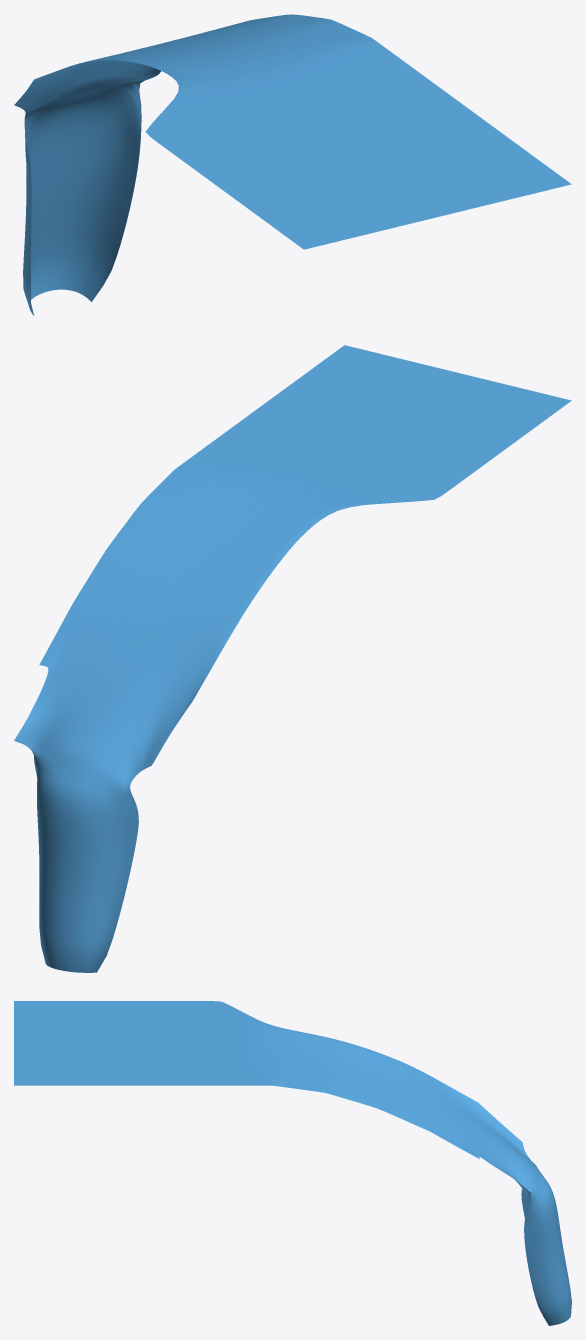
The picture shows the model from 3 angles, top to bottom: view 1: azimuth 30°, elevation 25°; view 2: azimuth 150°, elevation 25°; view 3: azimuth 270°, elevation 25°; orthographic projection. The views are drawn at different scales.
Visible parts, largest first — view 1: water.005; view 2: water.005; view 3: water.005.
Part boxes in pixels (left/top/right/bottom): water.005: left=14, top=14, right=571, bottom=315; water.005: left=14, top=345, right=571, bottom=972; water.005: left=14, top=1001, right=571, bottom=1325.
Size of the model in its own units: 1773 by 2565 by 4935.
